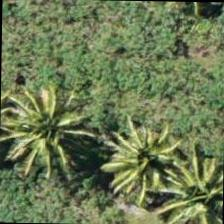Kelapa_Sawit: (90, 114, 182, 206), (0, 84, 82, 176), (152, 150, 224, 223)
